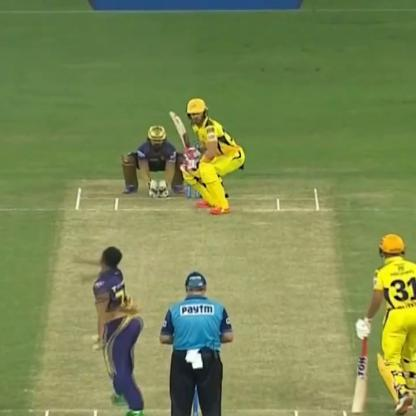ball: (85, 338, 98, 356), (86, 332, 101, 340)
bat: (341, 317, 379, 408), (162, 101, 205, 168)
pitch: (34, 180, 358, 413)
